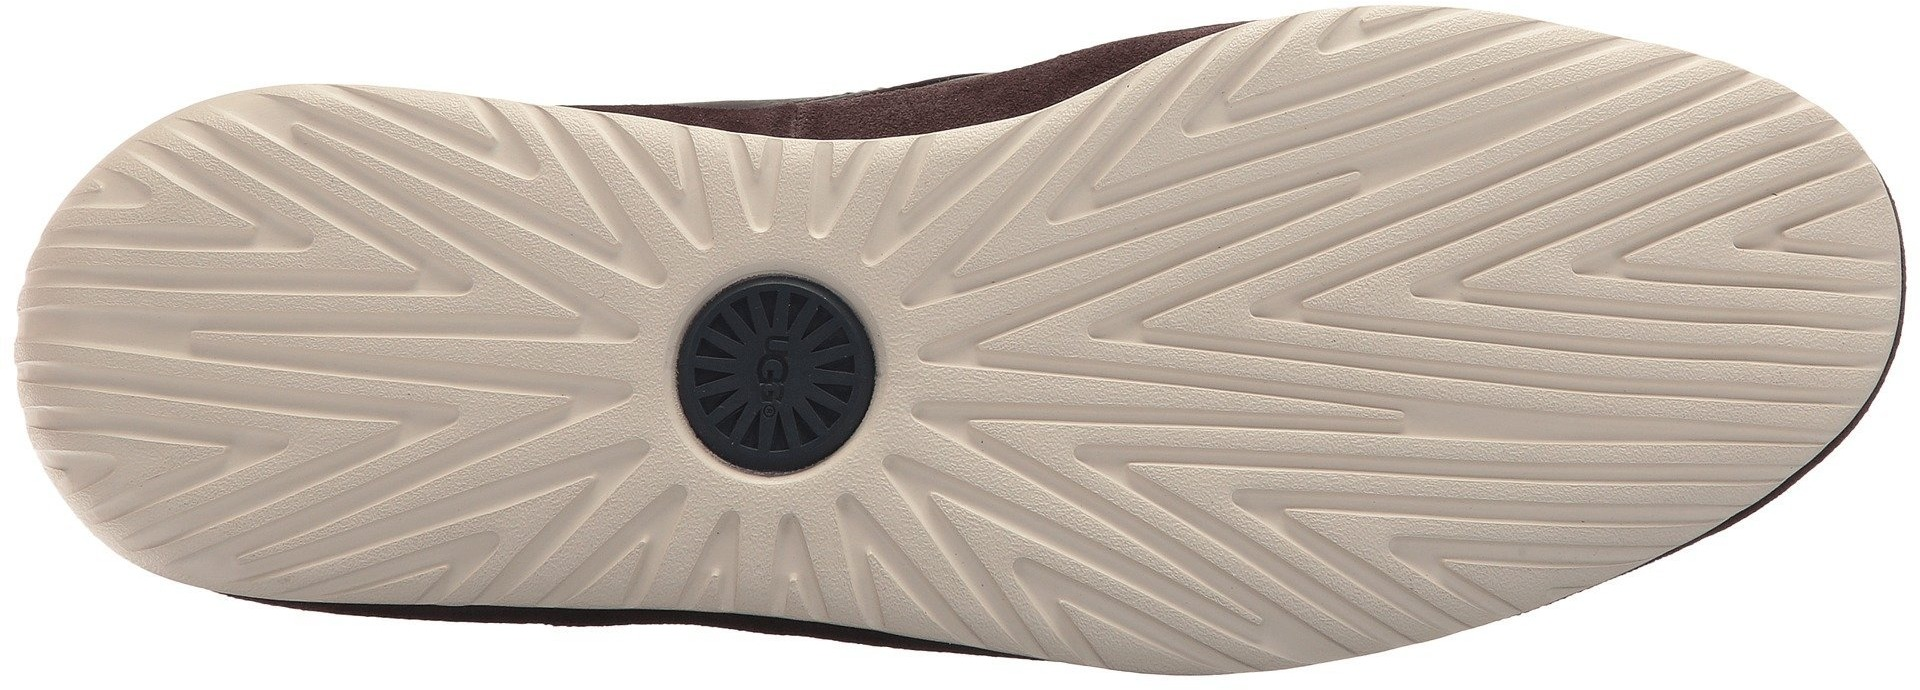chevron: (1250, 159, 1572, 436), (1581, 115, 1862, 393), (358, 153, 658, 410), (953, 412, 1247, 647), (87, 185, 350, 410), (987, 206, 1239, 378), (339, 416, 580, 590), (1264, 448, 1476, 626), (131, 416, 336, 569), (699, 139, 872, 276), (1112, 83, 1240, 206)
circle: (664, 269, 884, 482)
star: (707, 303, 838, 429)
text: (738, 333, 811, 402)
